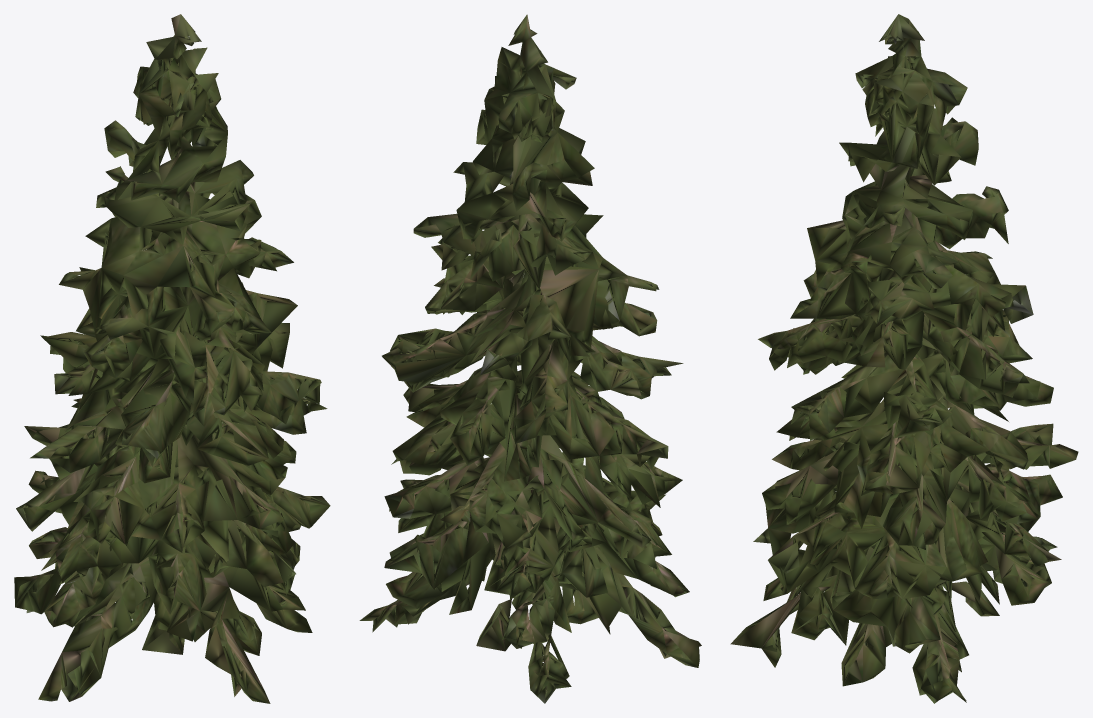
Rendered from spruce.glb.
3 renders of one model, left to right at view 1: azimuth 30°, elevation 25°; view 2: azimuth 150°, elevation 25°; view 3: azimuth 270°, elevation 25°, orthographic.
Parts seen in each view (by area): view 1: spruce; view 2: spruce; view 3: spruce.
Boxes of the visible parts, left/top/right/bottom form: spruce: left=14, top=14, right=330, bottom=703; spruce: left=359, top=14, right=701, bottom=703; spruce: left=730, top=14, right=1078, bottom=703.
Bounding box in the file's own units: 0.4776 × 1 × 0.4905.
1 material, 1 textured.
